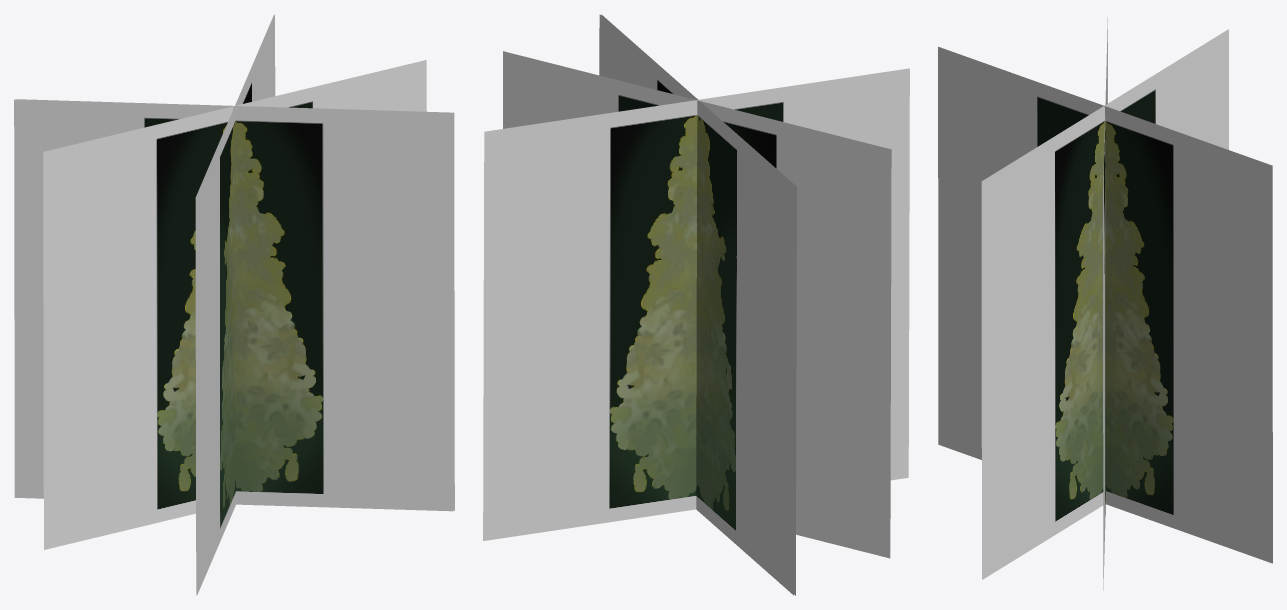
The model's file is TreeM.fbx.
3 views of the same model, side by side, from view 1: azimuth 30°, elevation 25°; view 2: azimuth 150°, elevation 25°; view 3: azimuth 270°, elevation 25° (orthographic). The views are drawn at different scales.
Parts seen in each view (by area): view 1: TreeM; view 2: TreeM; view 3: TreeM.
Part boxes in pixels (x1,y1,x2,y2): TreeM: (14, 14, 454, 595); TreeM: (483, 14, 909, 595); TreeM: (938, 17, 1272, 590).
Bounding box in the file's own units: 9593 × 9594 × 7314.
